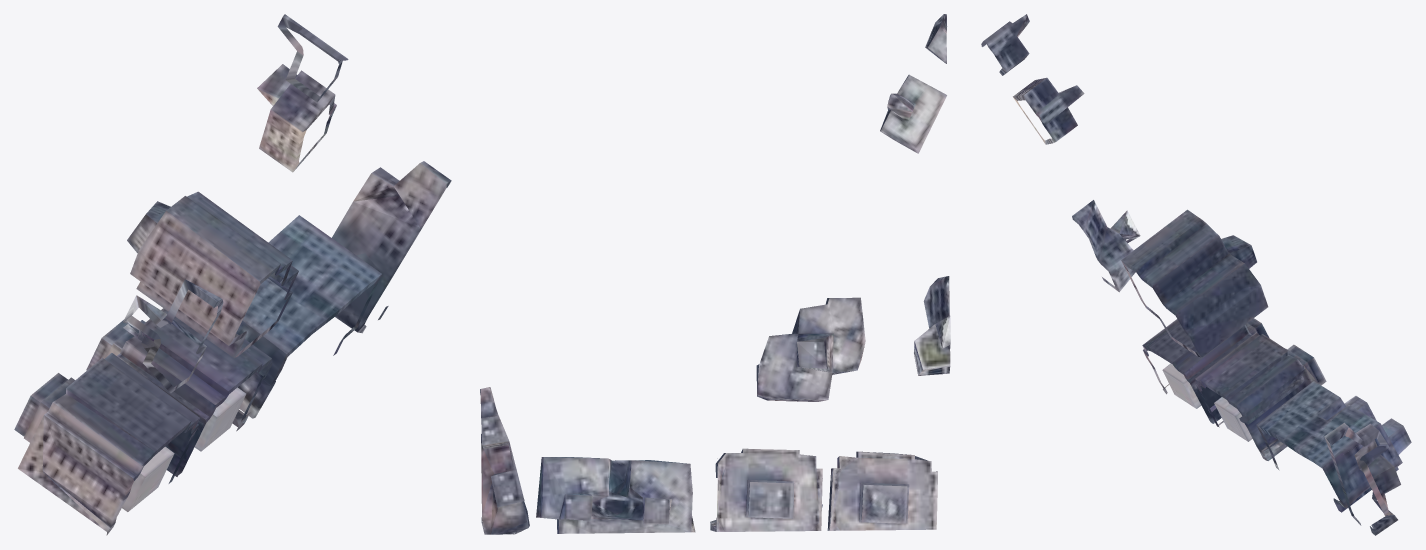
The picture shows the model from 3 angles, left to right: view 1: azimuth 30°, elevation 25°; view 2: azimuth 150°, elevation 25°; view 3: azimuth 270°, elevation 25°; orthographic projection. The views are drawn at different scales.
Size of the model in its own units: 136 by 147 by 140.
Materials: 1 (1 with a texture image).
